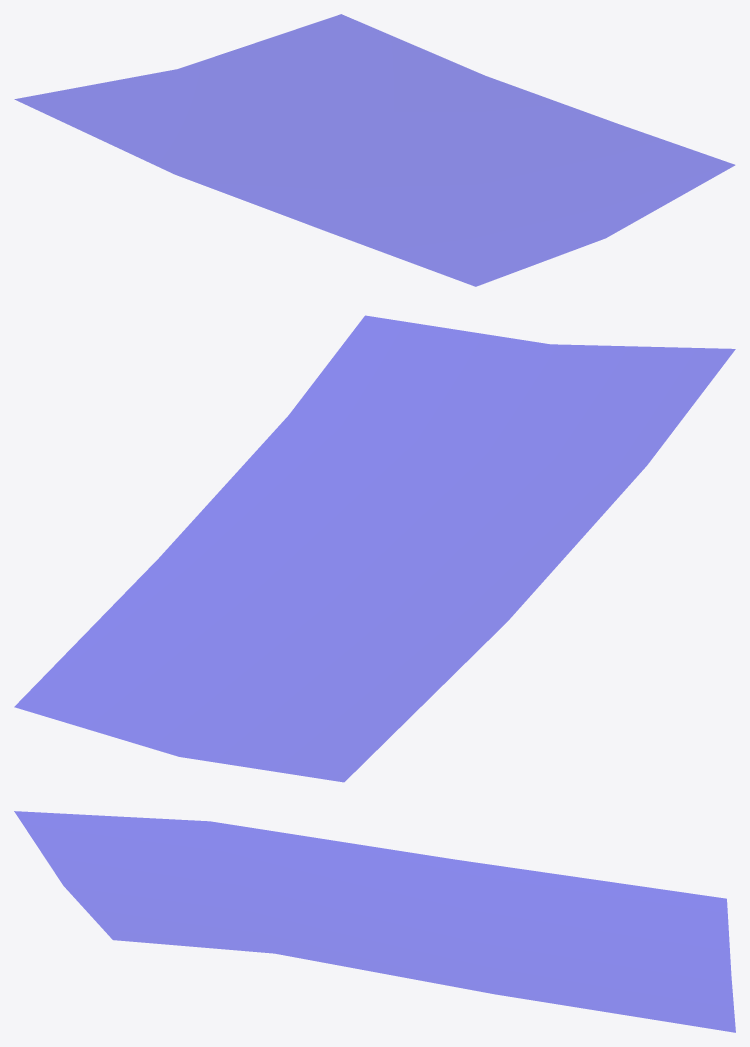
File: track_la_coll_road_35.fbx
3 views of the same model, one above another, from view 1: azimuth 30°, elevation 25°; view 2: azimuth 150°, elevation 25°; view 3: azimuth 270°, elevation 25° (orthographic). The views are drawn at different scales.
Visible parts, largest first — view 1: track_la_coll_road_35; view 2: track_la_coll_road_35; view 3: track_la_coll_road_35.
Boxes of the visible parts, x1,y1,x2,y2 form: track_la_coll_road_35: (14,14,734,286); track_la_coll_road_35: (14,315,735,782); track_la_coll_road_35: (14,811,735,1032).
Bounding box in the file's own units: 22.8 × 8.21 × 48.79.
